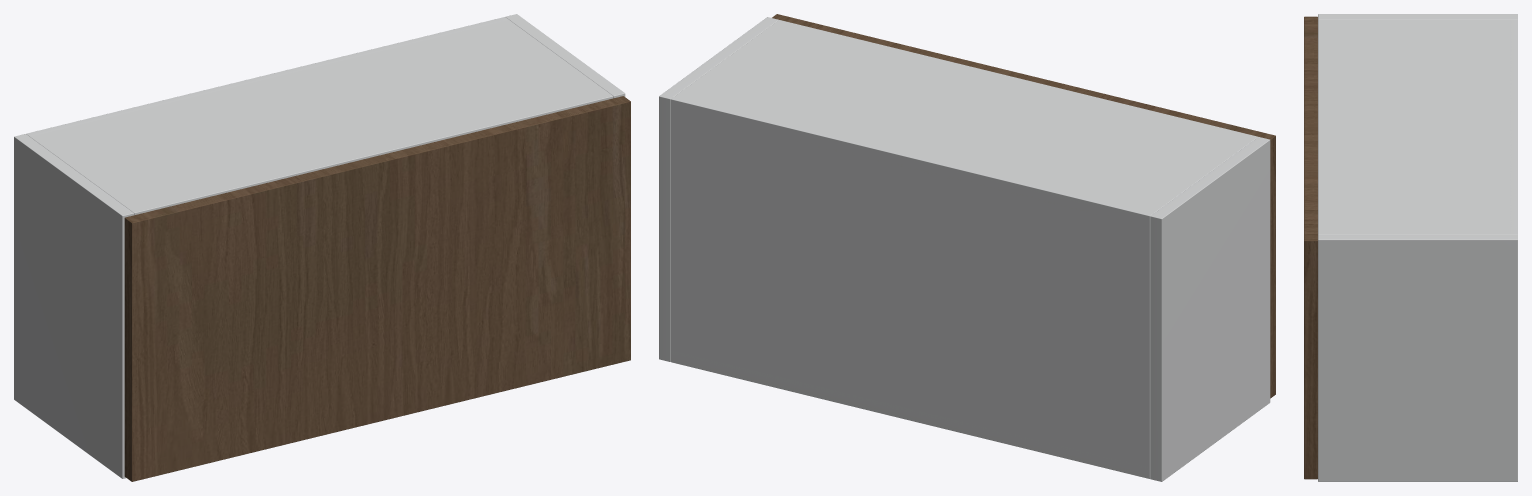
Rendered from oppein-ply-mso-wsl3015.glb.
The picture shows the model from 3 angles, left to right: view 1: azimuth 30°, elevation 25°; view 2: azimuth 150°, elevation 25°; view 3: azimuth 270°, elevation 25°; orthographic projection. The views are drawn at different scales.
Parts seen in each view (by area): view 1: Door, Cabinet top, Cabinet side, Cabinet back, Cabinet side.001; view 2: Cabinet back, Cabinet top, Cabinet side, Door, Cabinet side.001, Cabinet bottom; view 3: Cabinet side.001, Cabinet top, Door, Cabinet back, Cabinet side.
Part boxes in pixels (x1=…): Door: x1=124, y1=96, x2=630, y2=481; Cabinet top: x1=26, y1=17, x2=613, y2=215; Cabinet side: x1=14, y1=134, x2=133, y2=478; Cabinet back: x1=27, y1=17, x2=508, y2=136; Cabinet side.001: x1=505, y1=14, x2=625, y2=98; Cabinet back: x1=671, y1=96, x2=1153, y2=478; Cabinet top: x1=671, y1=20, x2=1257, y2=226; Cabinet side: x1=1150, y1=137, x2=1270, y2=481; Door: x1=772, y1=14, x2=1275, y2=398; Cabinet side.001: x1=659, y1=17, x2=778, y2=361; Cabinet bottom: x1=671, y1=351, x2=1149, y2=477; Cabinet side.001: x1=1318, y1=234, x2=1517, y2=481; Cabinet top: x1=1318, y1=19, x2=1517, y2=234; Door: x1=1304, y1=16, x2=1317, y2=479; Cabinet back: x1=1510, y1=19, x2=1517, y2=234; Cabinet side: x1=1318, y1=14, x2=1517, y2=19.
Size of the model in its own units: 0.762 by 0.381 by 0.3048.
2 materials, 1 textured.
